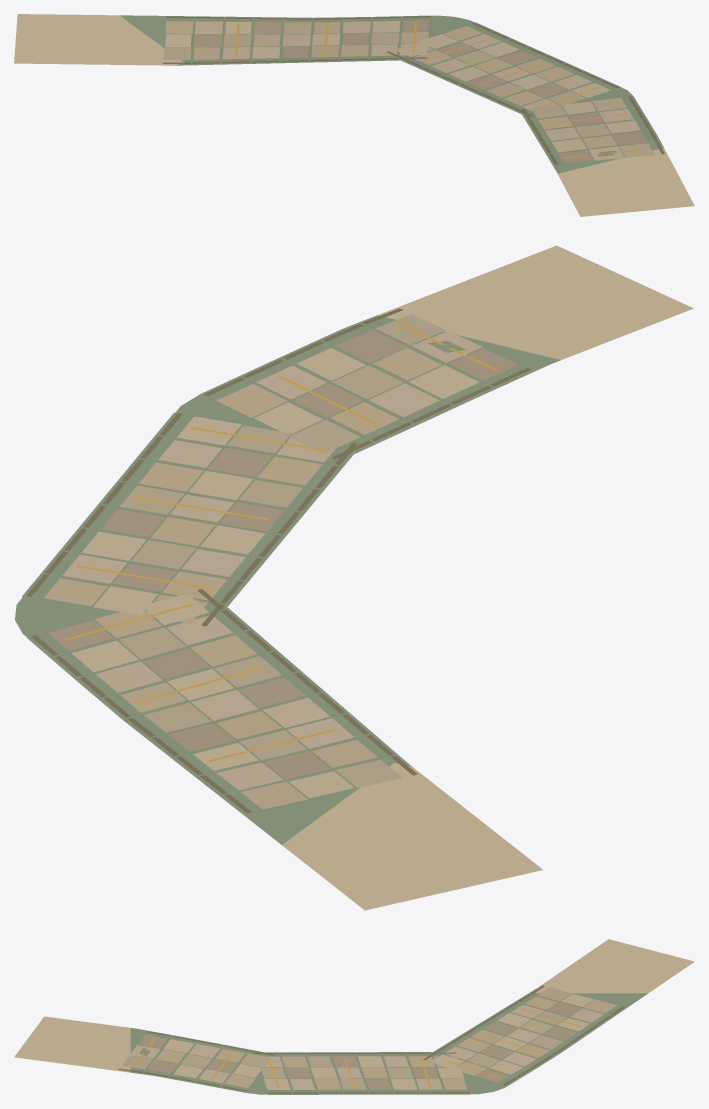
Rendered from route-steps_n-bank-ramp.glb.
3 renders of one model, top to bottom at view 1: azimuth 30°, elevation 25°; view 2: azimuth 150°, elevation 25°; view 3: azimuth 270°, elevation 25°, orthographic. The views are drawn at different scales.
Visible parts, largest first — view 1: Surveyed floor · route-steps_n-bank-ramp, Jar Steps to Dry Bank / #C9B798, Jar Steps to Dry Bank / #C2AE8D, Jar Steps to Dry Bank / #BDAD8E, Jar Steps to Dry Bank / #C7B399, Jar Steps to Dry Bank / #AE9D84, Jar Steps to Dry Bank / #85775D, Jar Steps to Dry Bank / brass; view 2: Surveyed floor · route-steps_n-bank-ramp, Jar Steps to Dry Bank / #C9B798, Jar Steps to Dry Bank / #C2AE8D, Jar Steps to Dry Bank / #C7B399, Jar Steps to Dry Bank / #BDAD8E, Jar Steps to Dry Bank / #AE9D84, Jar Steps to Dry Bank / #85775D, Jar Steps to Dry Bank / brass; view 3: Surveyed floor · route-steps_n-bank-ramp, Jar Steps to Dry Bank / #C9B798, Jar Steps to Dry Bank / #C2AE8D, Jar Steps to Dry Bank / #C7B399, Jar Steps to Dry Bank / #BDAD8E, Jar Steps to Dry Bank / #AE9D84, Jar Steps to Dry Bank / #85775D, Jar Steps to Dry Bank / brass.
Part boxes in pixels (x1=…): Surveyed floor · route-steps_n-bank-ramp: x1=14, y1=14, x2=694, y2=216; Jar Steps to Dry Bank / #C9B798: x1=165, y1=21, x2=640, y2=152; Jar Steps to Dry Bank / #C2AE8D: x1=165, y1=21, x2=626, y2=148; Jar Steps to Dry Bank / #BDAD8E: x1=163, y1=22, x2=654, y2=157; Jar Steps to Dry Bank / #C7B399: x1=195, y1=21, x2=633, y2=160; Jar Steps to Dry Bank / #AE9D84: x1=194, y1=20, x2=647, y2=163; Jar Steps to Dry Bank / #85775D: x1=163, y1=16, x2=664, y2=164; Jar Steps to Dry Bank / brass: x1=235, y1=21, x2=647, y2=158; Surveyed floor · route-steps_n-bank-ramp: x1=15, y1=245, x2=693, y2=910; Jar Steps to Dry Bank / #C9B798: x1=71, y1=348, x2=479, y2=798; Jar Steps to Dry Bank / #C2AE8D: x1=44, y1=347, x2=441, y2=809; Jar Steps to Dry Bank / #C7B399: x1=62, y1=331, x2=482, y2=790; Jar Steps to Dry Bank / #BDAD8E: x1=119, y1=314, x2=445, y2=787; Jar Steps to Dry Bank / #AE9D84: x1=48, y1=330, x2=517, y2=779; Jar Steps to Dry Bank / #85775D: x1=26, y1=308, x2=530, y2=813; Jar Steps to Dry Bank / brass: x1=63, y1=322, x2=496, y2=761; Surveyed floor · route-steps_n-bank-ramp: x1=14, y1=939, x2=694, y2=1094; Jar Steps to Dry Bank / #C9B798: x1=163, y1=993, x2=593, y2=1089; Jar Steps to Dry Bank / #C2AE8D: x1=156, y1=996, x2=617, y2=1089; Jar Steps to Dry Bank / #C7B399: x1=129, y1=1004, x2=603, y2=1089; Jar Steps to Dry Bank / #BDAD8E: x1=121, y1=987, x2=571, y2=1089; Jar Steps to Dry Bank / #AE9D84: x1=138, y1=1002, x2=580, y2=1089; Jar Steps to Dry Bank / #85775D: x1=118, y1=985, x2=624, y2=1093; Jar Steps to Dry Bank / brass: x1=134, y1=1009, x2=582, y2=1088.
Bounding box in the file's own units: 28.34 × 1.83 × 47.02.
